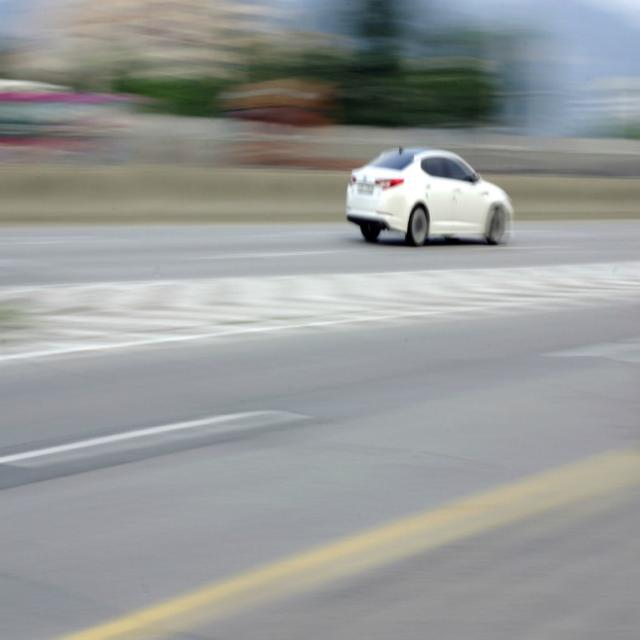car: (335, 136, 514, 237)
